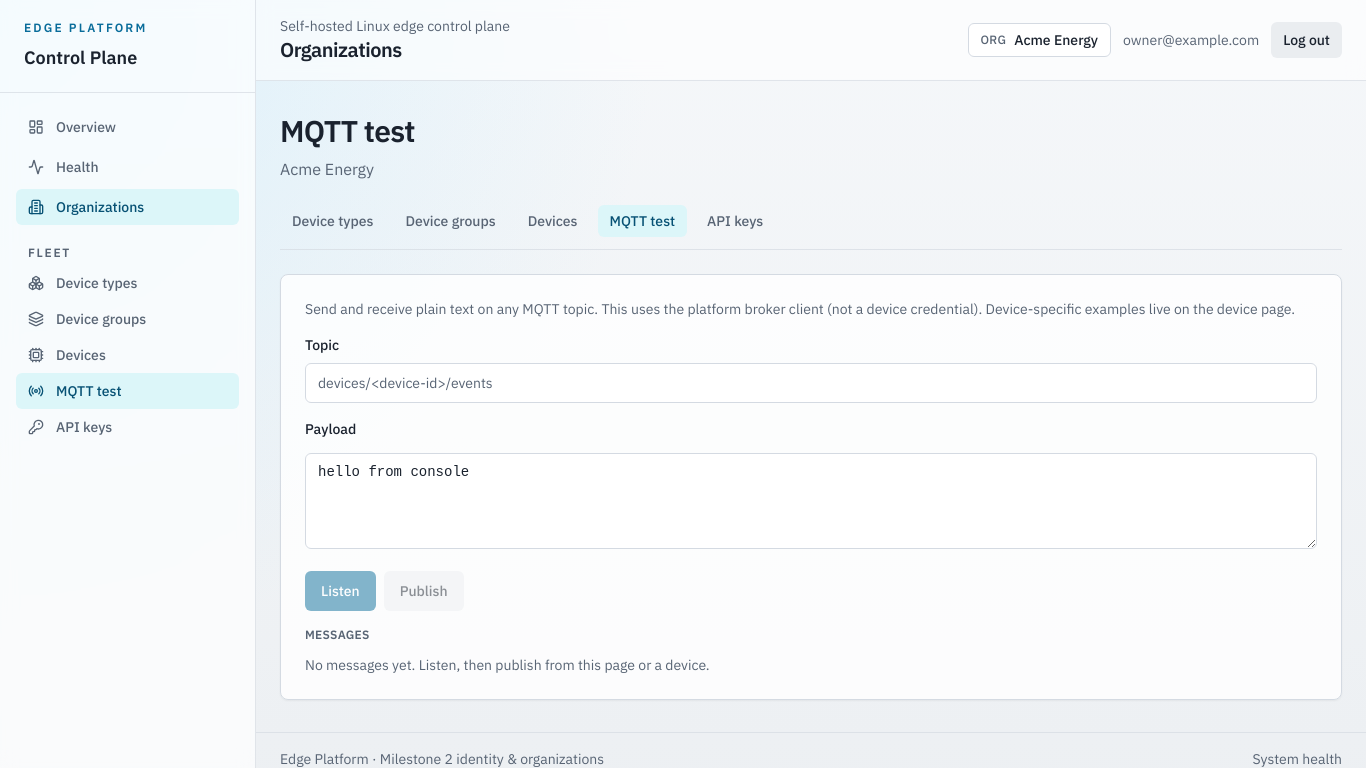
MQTT test › sends and shows plain text on a typed topic
Expected: the heading "MQTT test" is shown, [280,111,415,150]
Type "lab/temp" into the field labelled "Topic".
click(811, 383); type("lab/temp")  # box [305,363,1317,403]
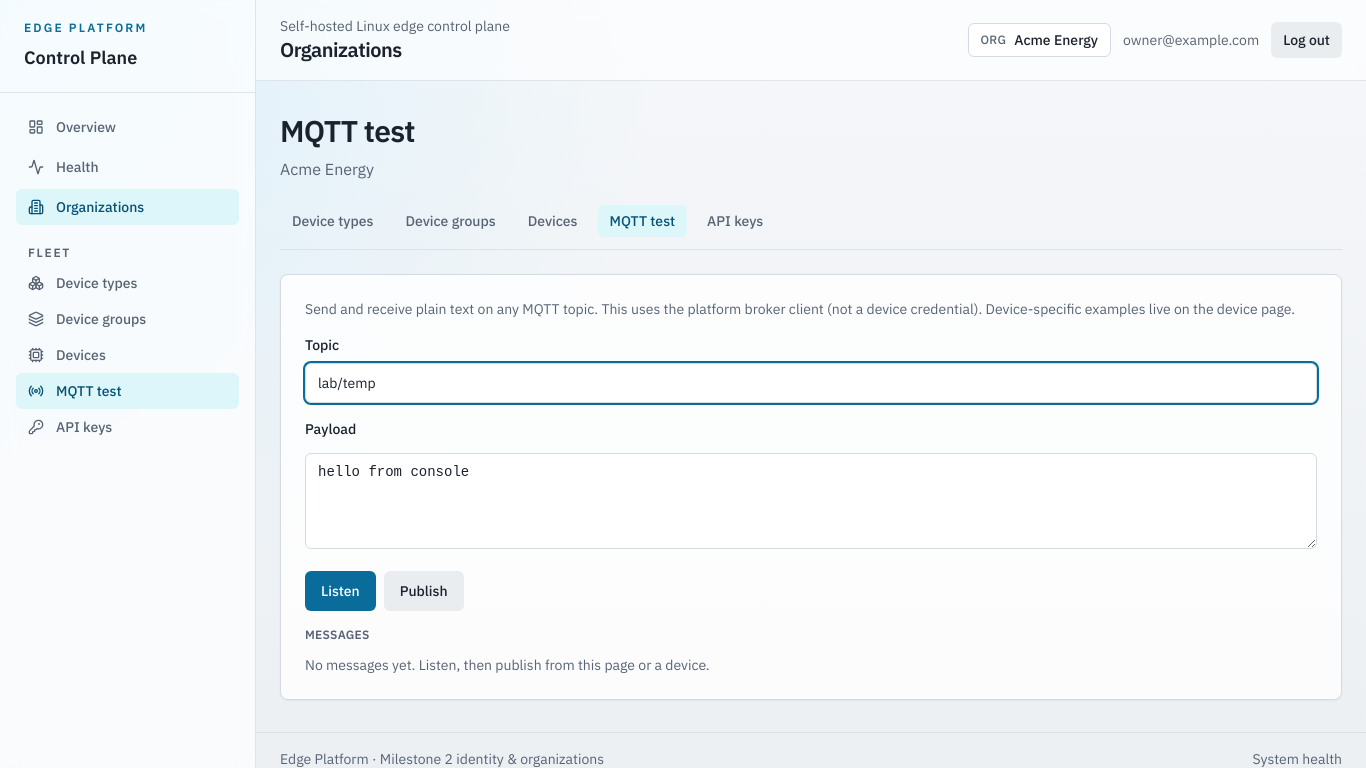
Click the button "Listen".
click(340, 591)  # box [305,571,376,611]
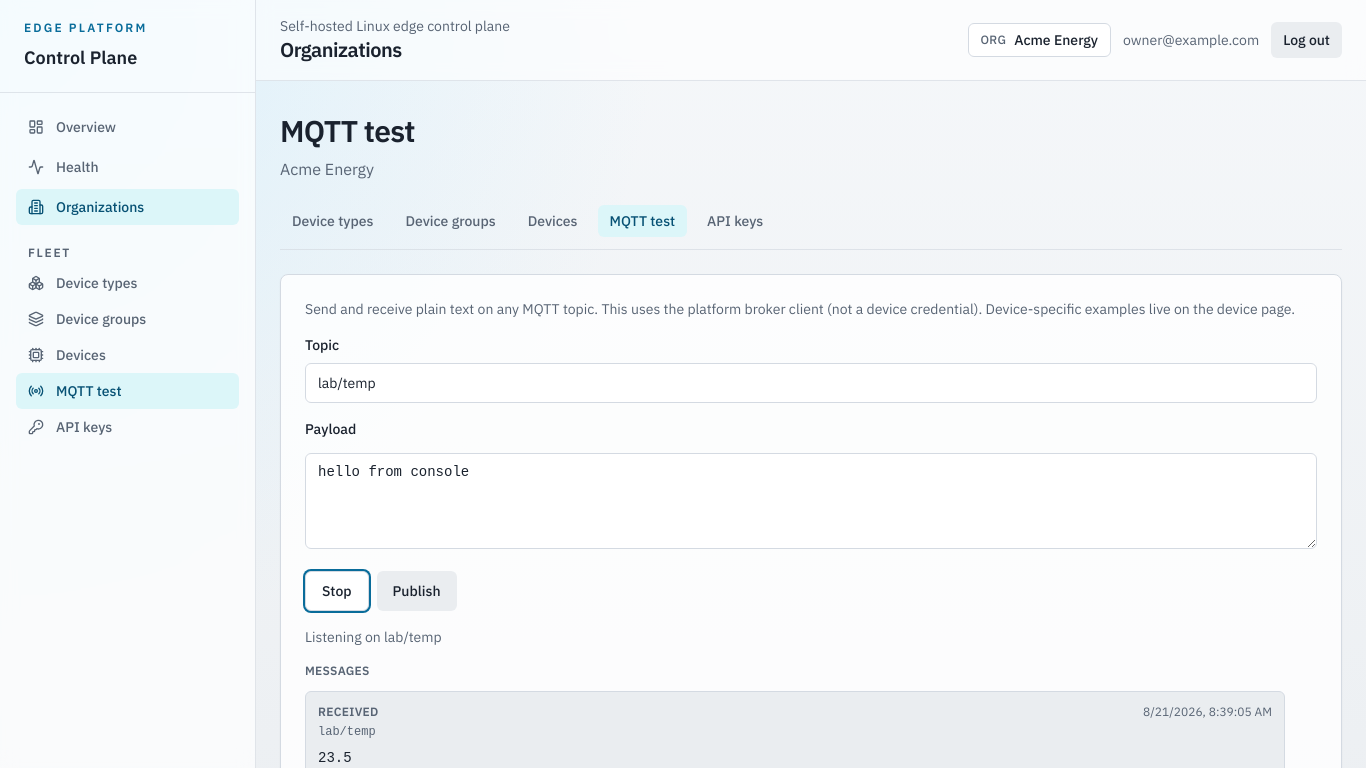
Result: the text "Received" is shown at [318,704,379,720]
Result: the text "23.5" is shown at [318,750,352,766]
Click the button "Stop".
click(337, 591)  # box [305,571,369,611]
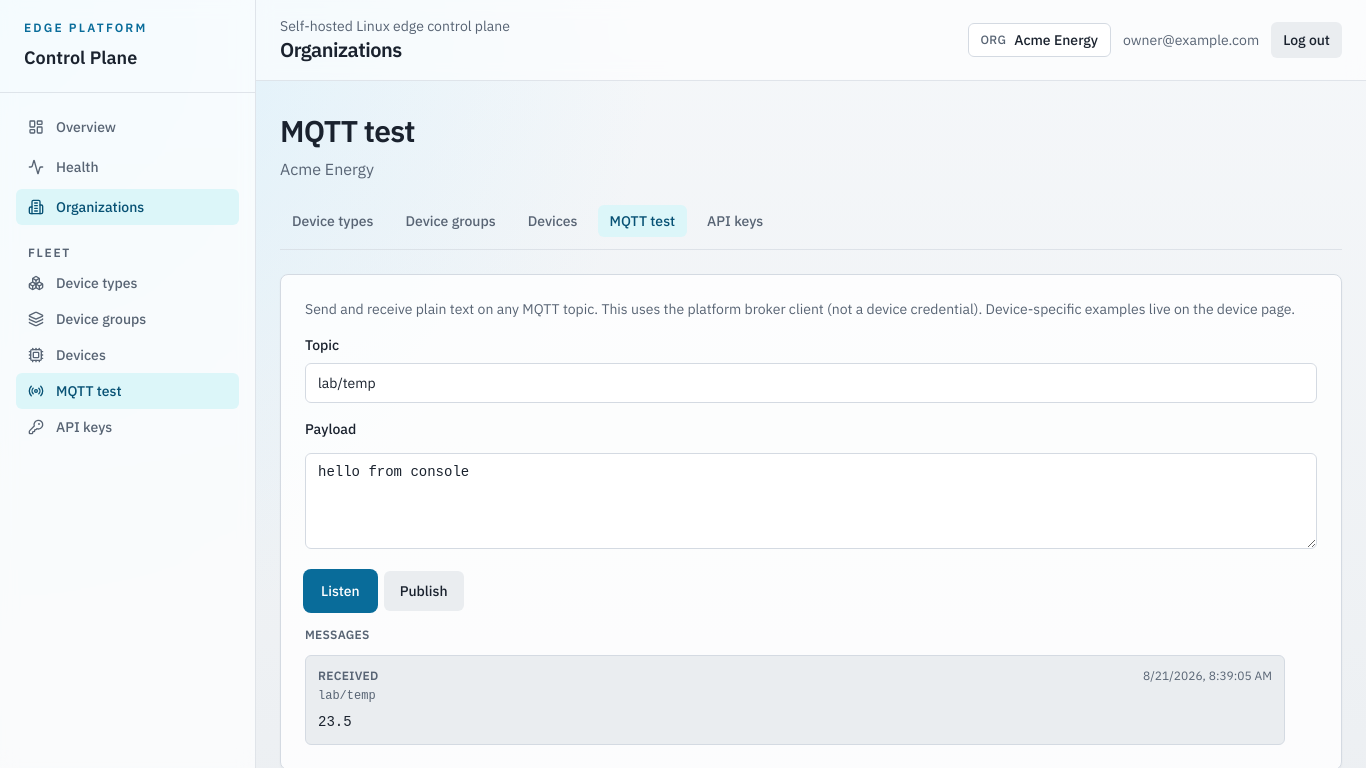
Result: the button "Listen" is shown at [305,571,376,611]
Click the button "Publish".
click(424, 591)  # box [384,571,464,611]
(page scrolled)
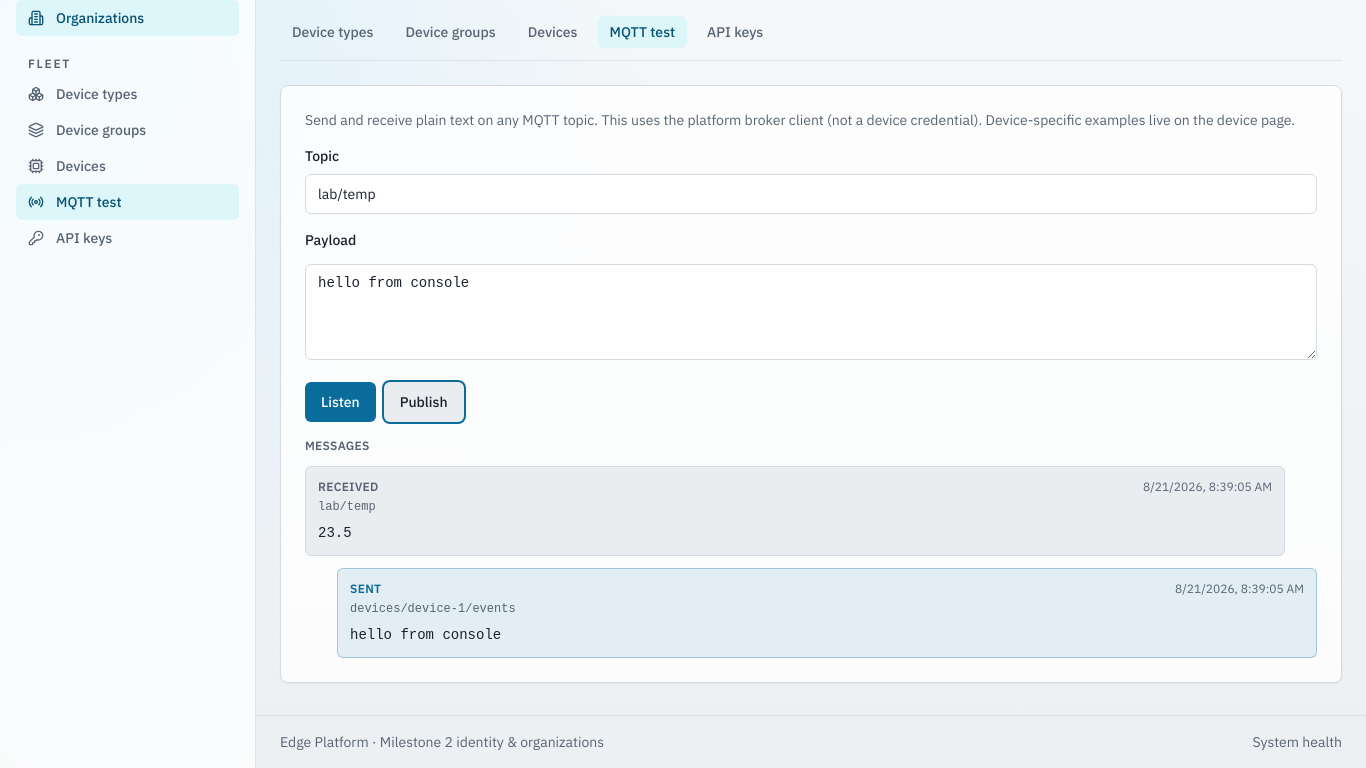
Result: the text "Sent" is shown at [350,581,381,597]
